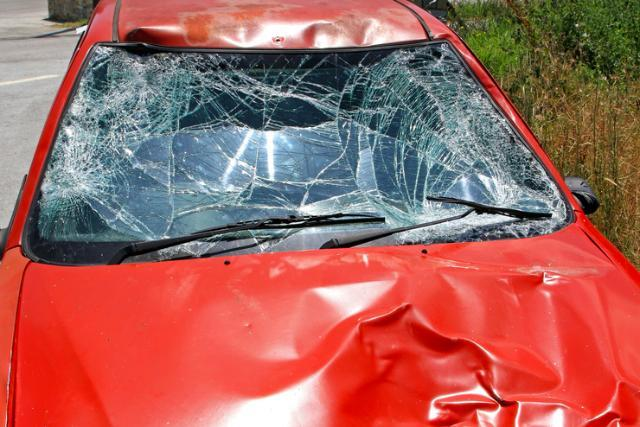Bonnet: (29, 259, 640, 426)
Windshield: (24, 26, 579, 242)
